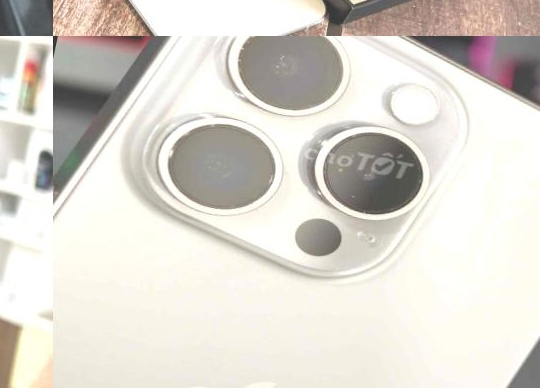scratch: (103, 36, 457, 274)
